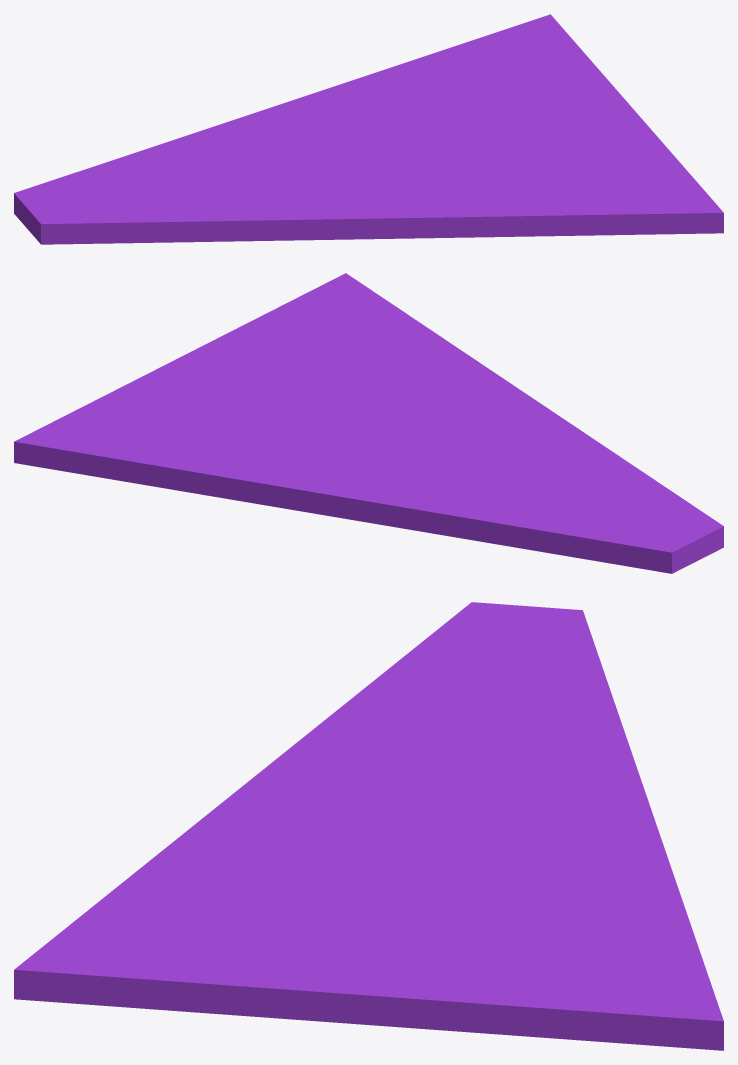
The model's file is StairsStep_36_chunks.fbx.
3 views of the same model, one above another, from view 1: azimuth 30°, elevation 25°; view 2: azimuth 150°, elevation 25°; view 3: azimuth 270°, elevation 25° (orthographic). The views are drawn at different scales.
Visible parts, largest first — view 1: StairsStep_36_3, StairsStep_36_2, StairsStep_36_0, StairsStep_36_1; view 2: StairsStep_36_3, StairsStep_36_0, StairsStep_36_2; view 3: StairsStep_36_3, StairsStep_36_0, StairsStep_36_2.
Part boxes in pixels (x1=…): StairsStep_36_3: x1=286, y1=14, x2=719, y2=207; StairsStep_36_2: x1=190, y1=159, x2=723, y2=241; StairsStep_36_0: x1=14, y1=102, x2=328, y2=244; StairsStep_36_1: x1=631, y1=225, x2=723, y2=234; StairsStep_36_3: x1=14, y1=277, x2=436, y2=516; StairsStep_36_0: x1=334, y1=450, x2=723, y2=573; StairsStep_36_2: x1=338, y1=273, x2=640, y2=470; StairsStep_36_3: x1=25, y1=800, x2=723, y2=1050; StairsStep_36_0: x1=372, y1=602, x2=654, y2=818; StairsStep_36_2: x1=14, y1=682, x2=454, y2=988.
Bounding box in the file's own units: 546 × 17.94 × 391.
